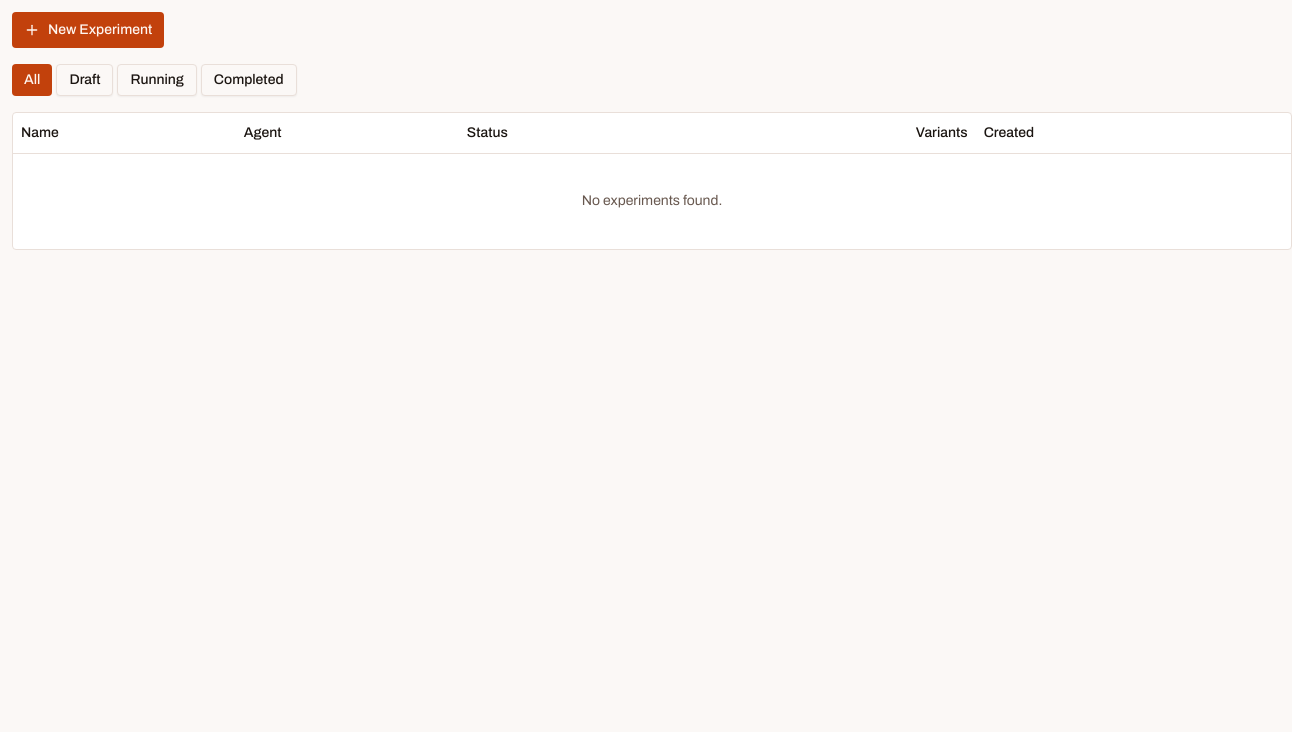
it: ExperimentsList › Agents loading in create form › shows "Failed to load agents" when agents fetch throws (catch path)
This screenshot has width=1292, height=732.
Click the button "New Experiment".
click(88, 30)  # box [12, 12, 164, 48]
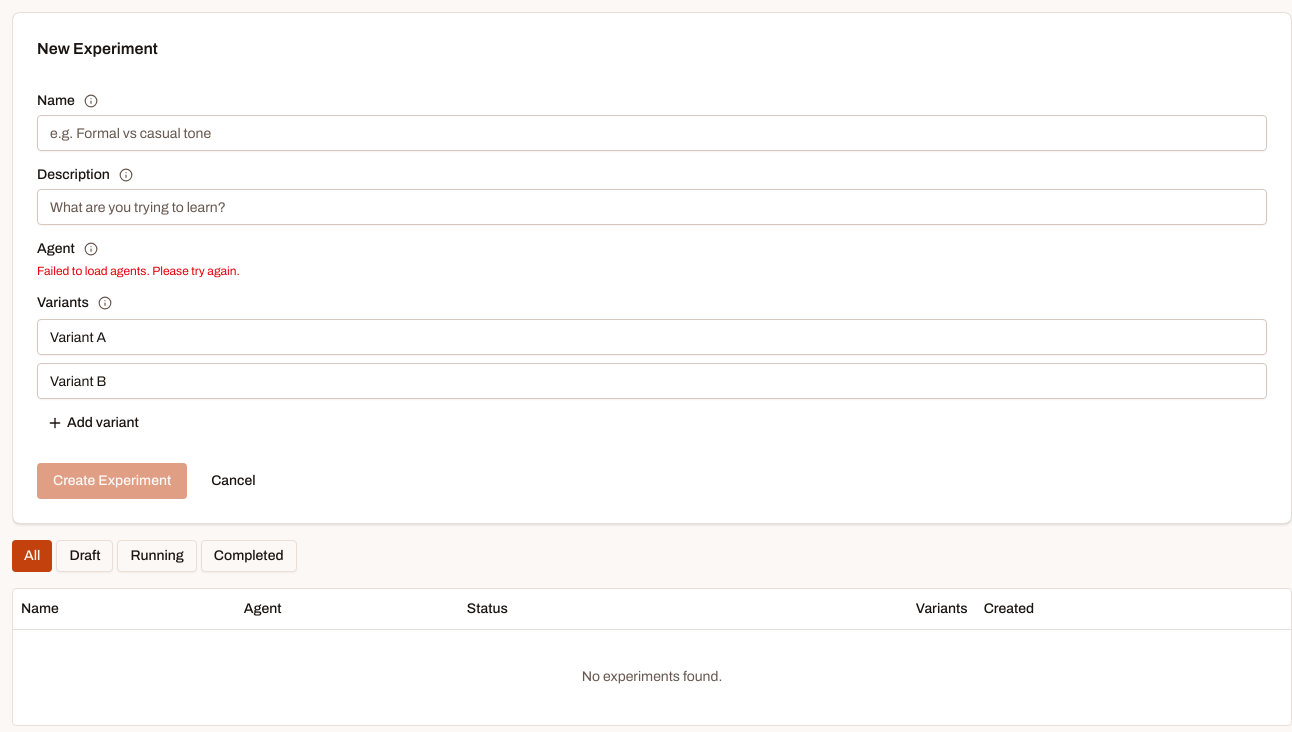
Check: the text "Failed to load agents. Please try again." is shown, box [37, 264, 240, 278]
